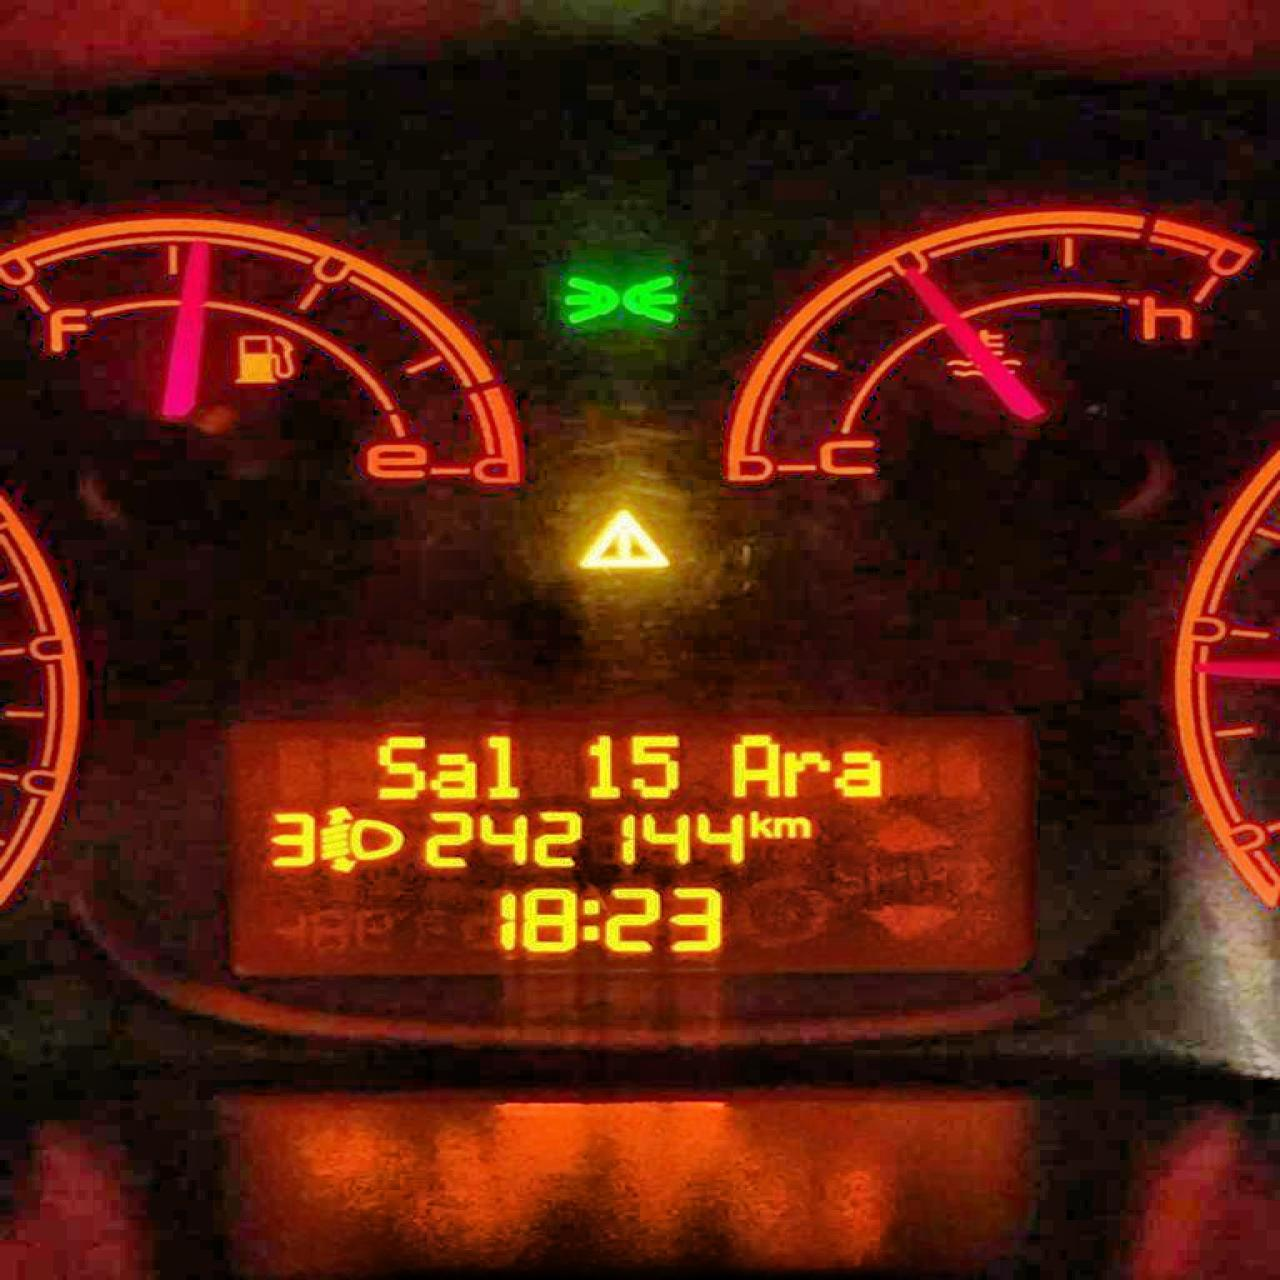1: (581, 729, 621, 808), (495, 885, 518, 955), (617, 806, 640, 871)
2: (605, 884, 662, 956), (420, 806, 475, 870), (532, 806, 584, 866)
3: (670, 884, 726, 954), (268, 808, 315, 871)
4: (477, 808, 529, 865), (694, 806, 743, 865), (641, 806, 690, 865)
5: (628, 730, 687, 799)
8: (520, 885, 577, 955)
X: (375, 731, 425, 804), (730, 731, 782, 797), (483, 730, 525, 802), (833, 748, 885, 798), (782, 747, 831, 797), (430, 748, 478, 798), (580, 891, 604, 945), (774, 812, 813, 842), (748, 806, 771, 840)
odometer: (213, 709, 1049, 985)
